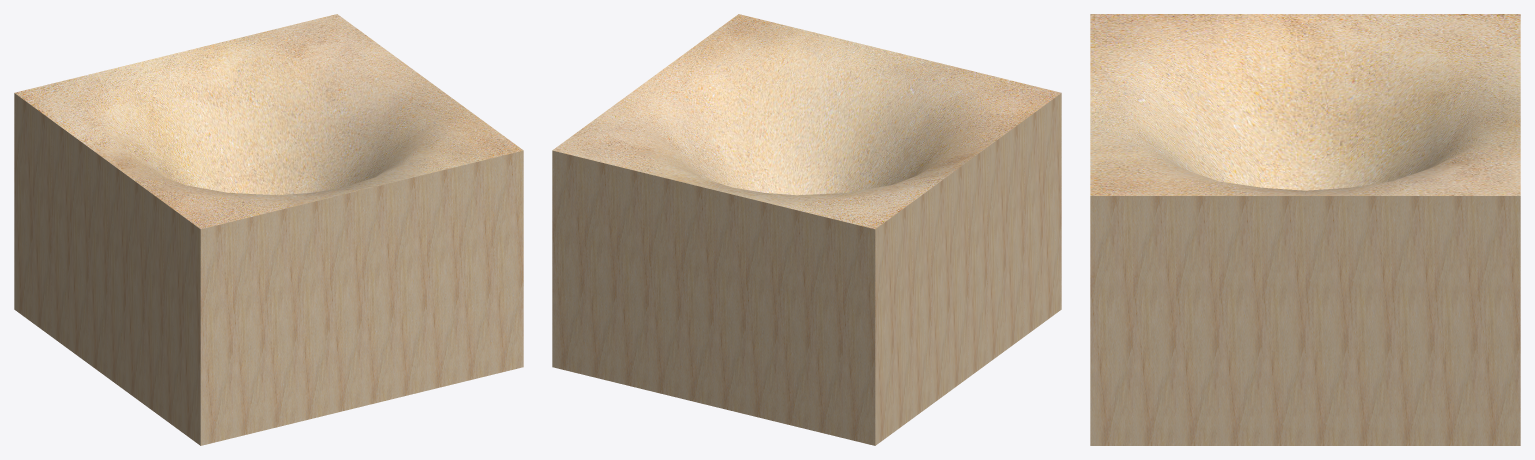
Rendered from antlion.fbx.
3 views of the same model, side by side, from view 1: azimuth 30°, elevation 25°; view 2: azimuth 150°, elevation 25°; view 3: azimuth 270°, elevation 25° (orthographic). The views are drawn at different scales.
Parts seen in each view (by area): view 1: pPlane1; view 2: pPlane1; view 3: pPlane1.
Part boxes in pixels (left/top/right/bottom): pPlane1: left=14, top=14, right=523, bottom=445; pPlane1: left=552, top=14, right=1061, bottom=445; pPlane1: left=1090, top=14, right=1520, bottom=445.
Bounding box in the file's own units: 1 × 1 × 0.6407.
1 material, 1 textured.
